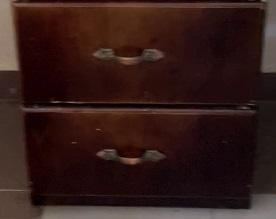cabinet_door: (14, 7, 267, 101), (28, 115, 268, 198)
handle: (92, 45, 166, 68), (96, 148, 166, 169)
